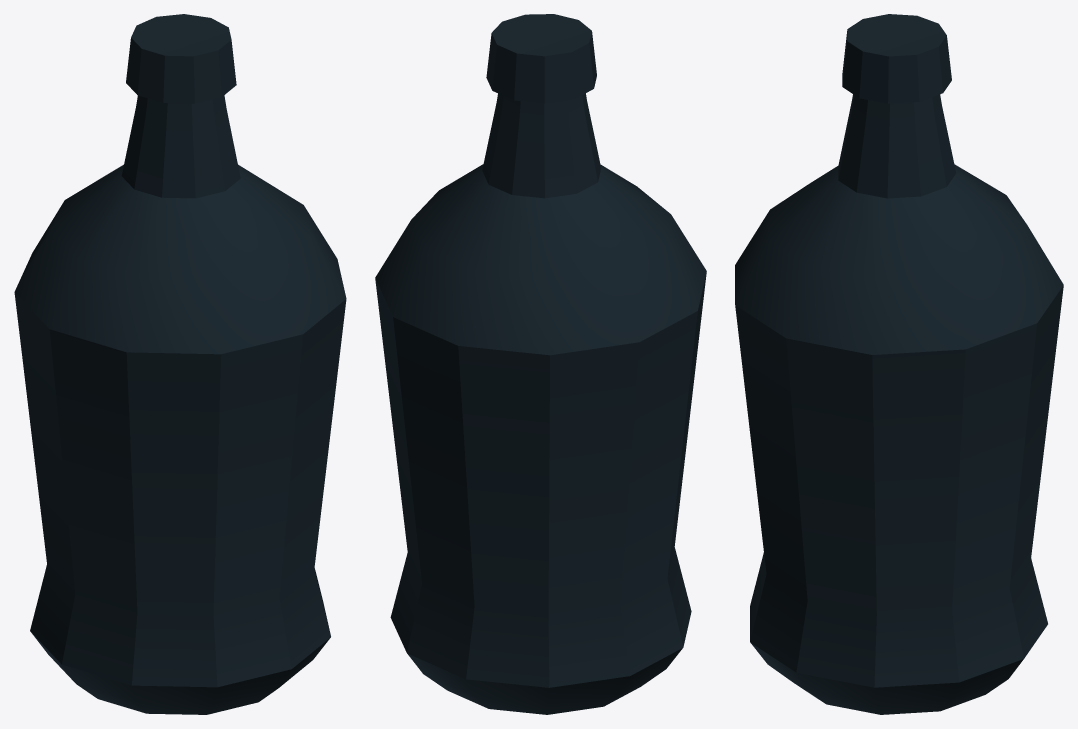
Rendered from Shadow_Bottle_4.fbx.
3 views of the same model, side by side, from view 1: azimuth 30°, elevation 25°; view 2: azimuth 150°, elevation 25°; view 3: azimuth 270°, elevation 25° (orthographic).
Visible parts, largest first — view 1: Sphere.033; view 2: Sphere.033; view 3: Sphere.033.
Boxes of the visible parts, bbox=[...] form: Sphere.033: bbox=[14, 14, 346, 714]; Sphere.033: bbox=[375, 14, 706, 714]; Sphere.033: bbox=[735, 14, 1063, 714].
Size of the model in its own units: 35.91 by 76.43 by 35.55.
